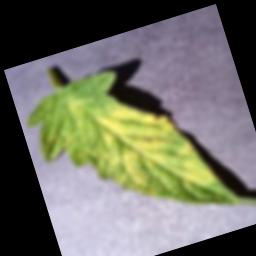Leaf_Mold: (18, 44, 240, 256)
